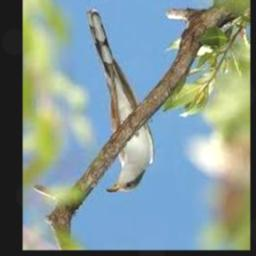Cuckoo: (87, 7, 154, 194)
